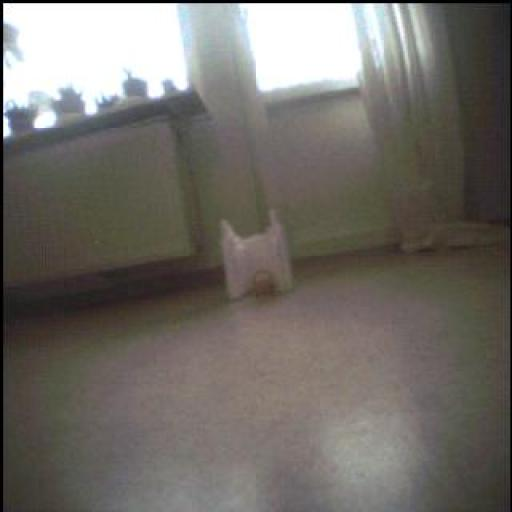Basket: (247, 268, 279, 301)
